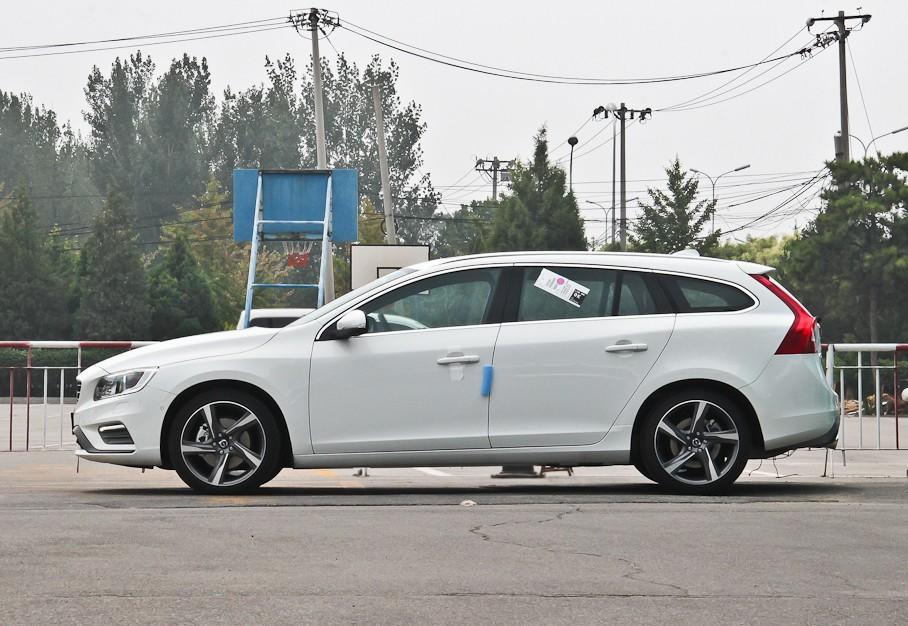Wagon: (73, 250, 842, 496)
